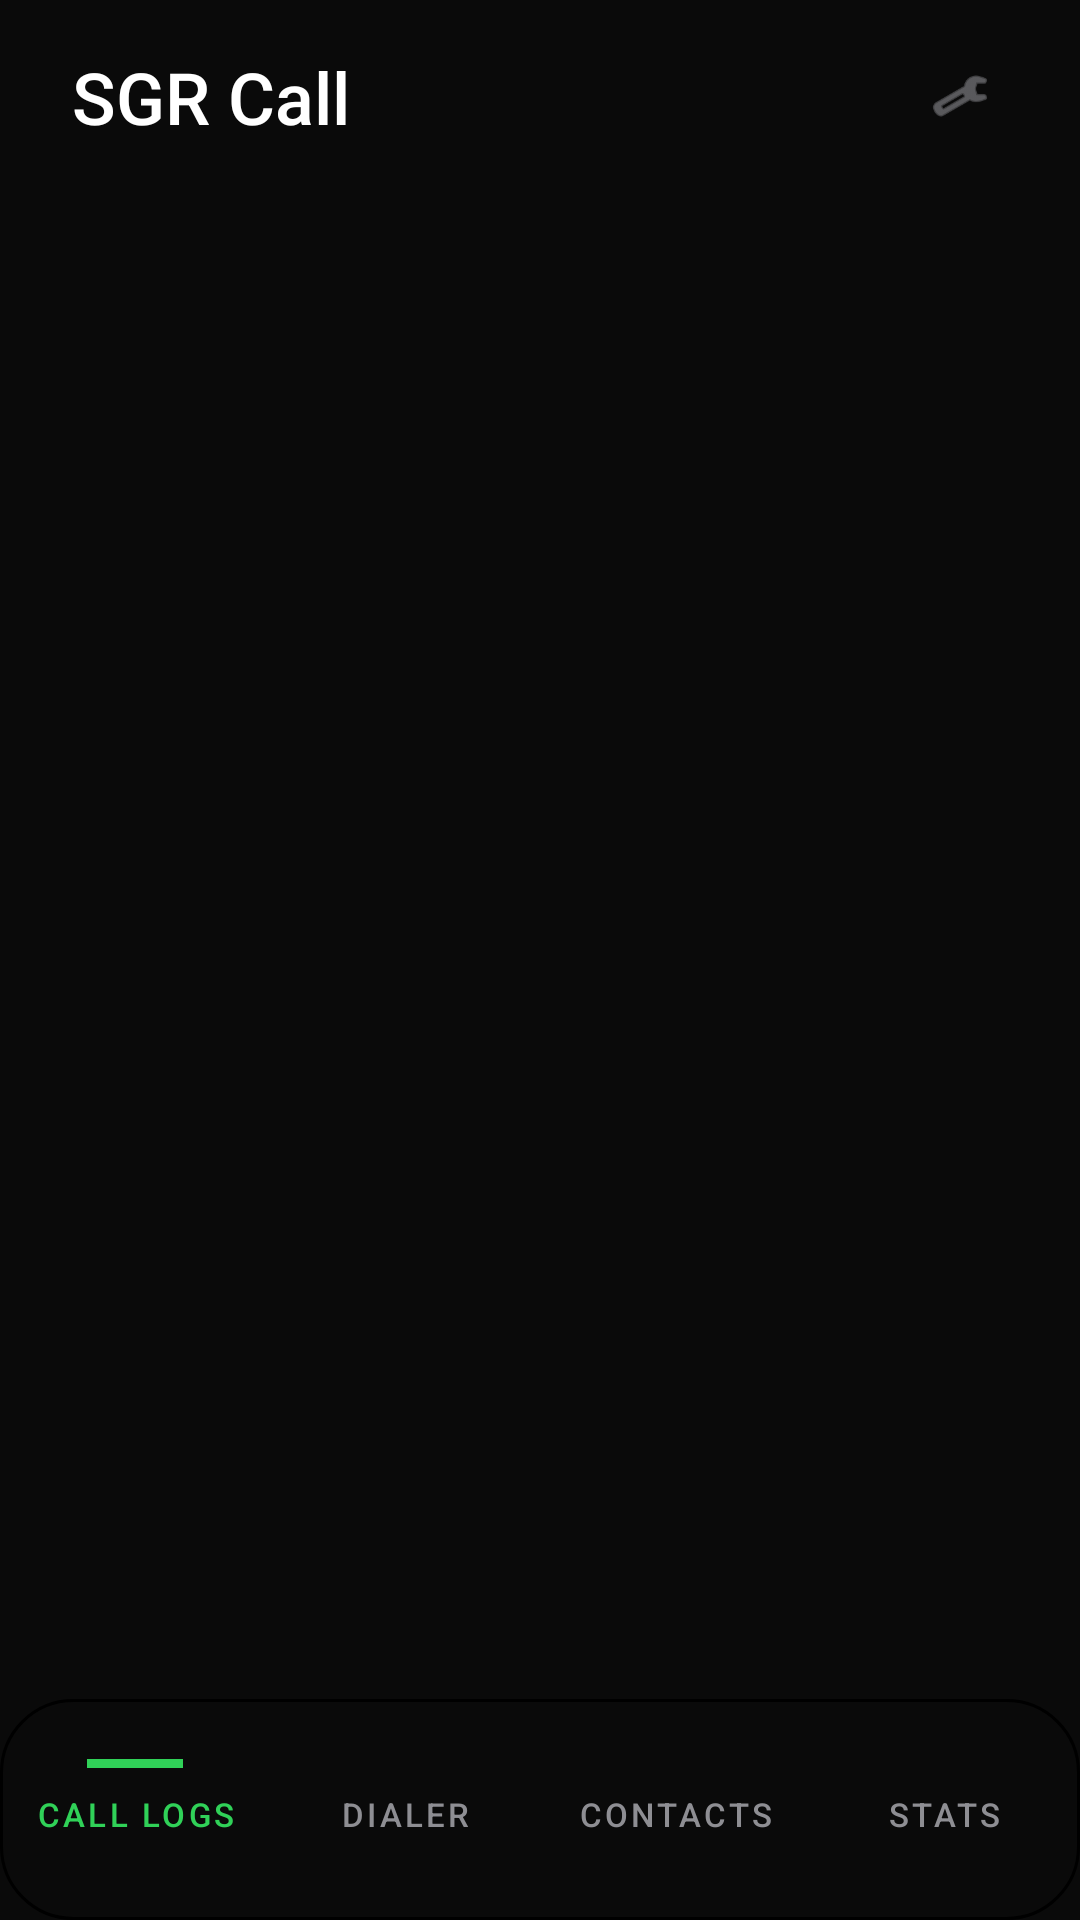

Locate icon controls on the screen. Image size 1080*1920, boxes as (x1, y1, x2, y2).
Settings: (933, 75, 987, 117)
